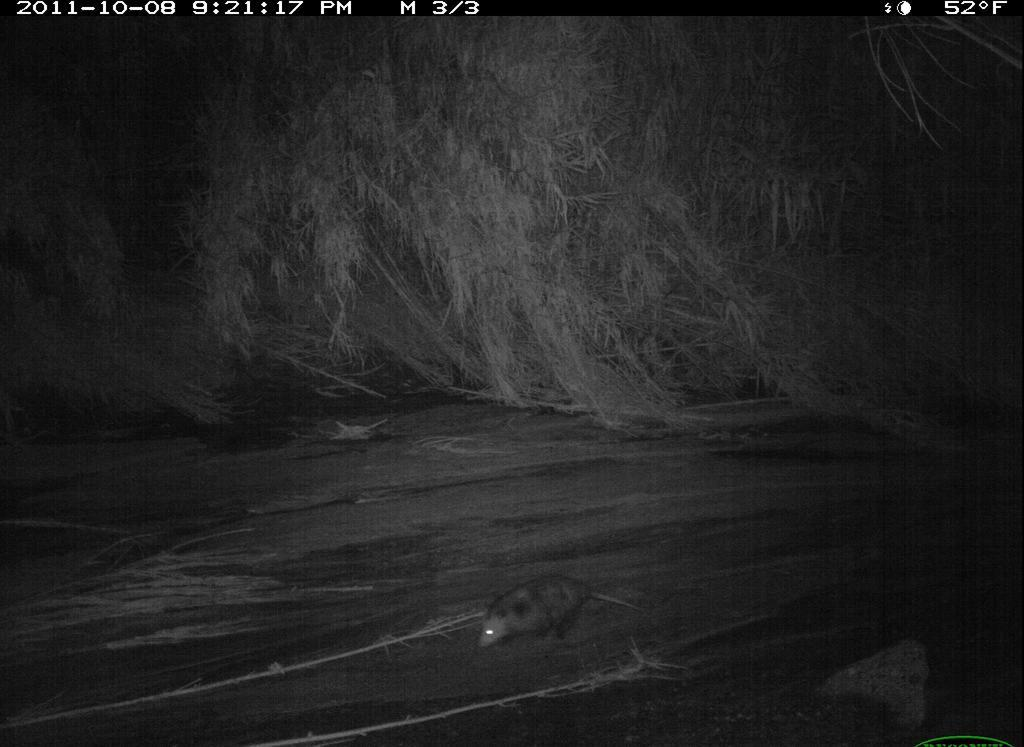opossum: (469, 555, 648, 651)
